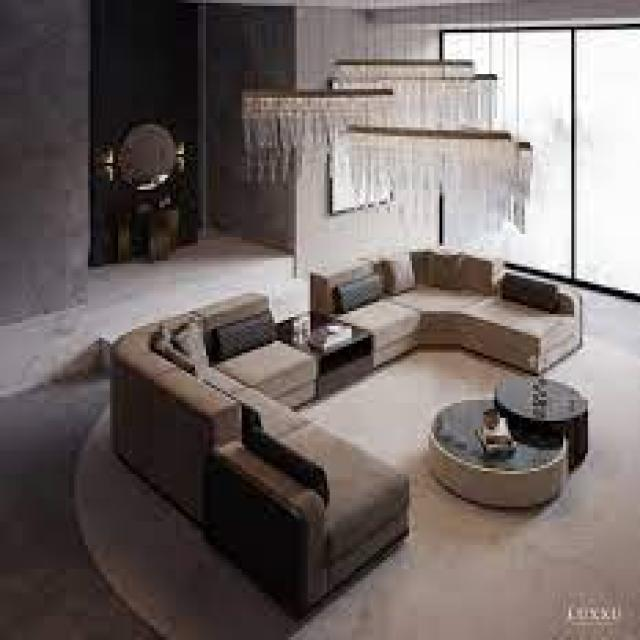Lamp: (250, 38, 546, 224)
Sofa: (102, 326, 418, 613), (112, 277, 464, 393), (337, 242, 589, 382)
Table: (419, 374, 618, 511)
